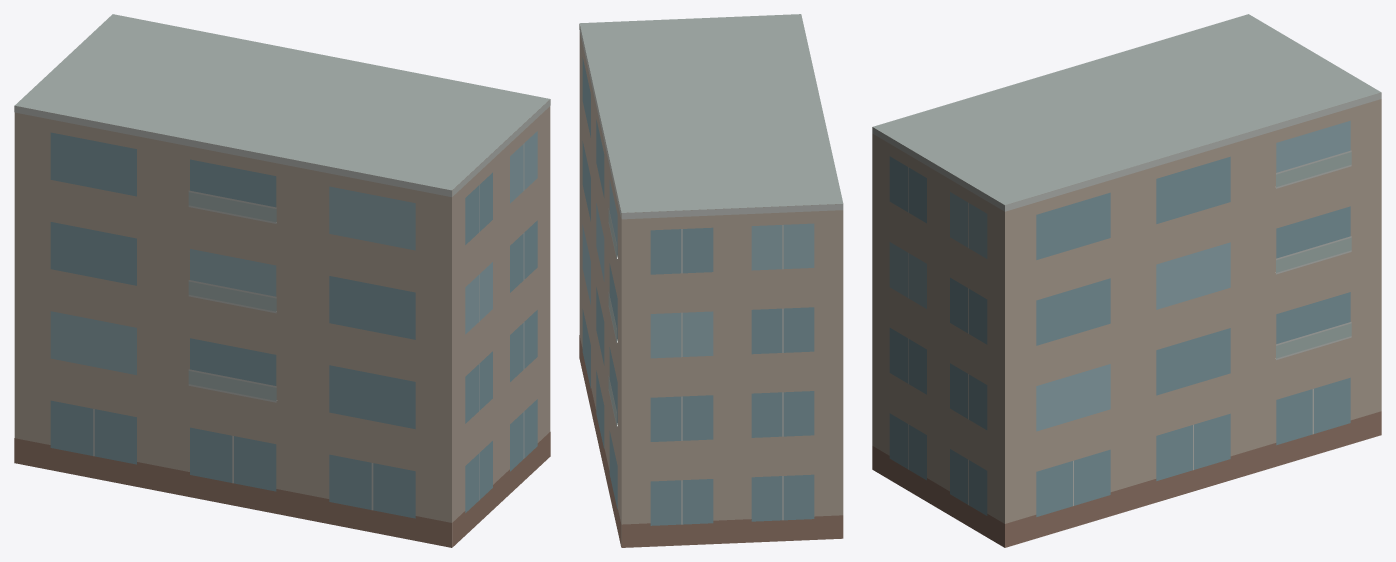
Rendered from survey-upis-32956162.glb.
The picture shows the model from 3 angles, left to right: view 1: azimuth 30°, elevation 25°; view 2: azimuth 150°, elevation 25°; view 3: azimuth 270°, elevation 25°; orthographic projection. The views are drawn at different scales.
Visible parts, largest first — view 1: survey-upis-32956162.tmp; view 2: survey-upis-32956162.tmp; view 3: survey-upis-32956162.tmp.
Boxes of the visible parts, bbox=[...] form: survey-upis-32956162.tmp: bbox=[14, 14, 550, 547]; survey-upis-32956162.tmp: bbox=[579, 14, 843, 547]; survey-upis-32956162.tmp: bbox=[872, 14, 1381, 547].
Size of the model in its own units: 15.33 by 12.8 by 17.25.
